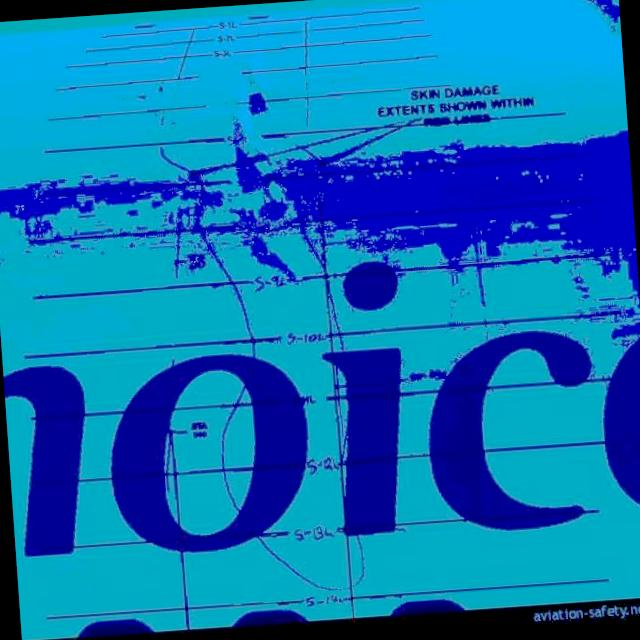dent: (198, 8, 342, 580)
